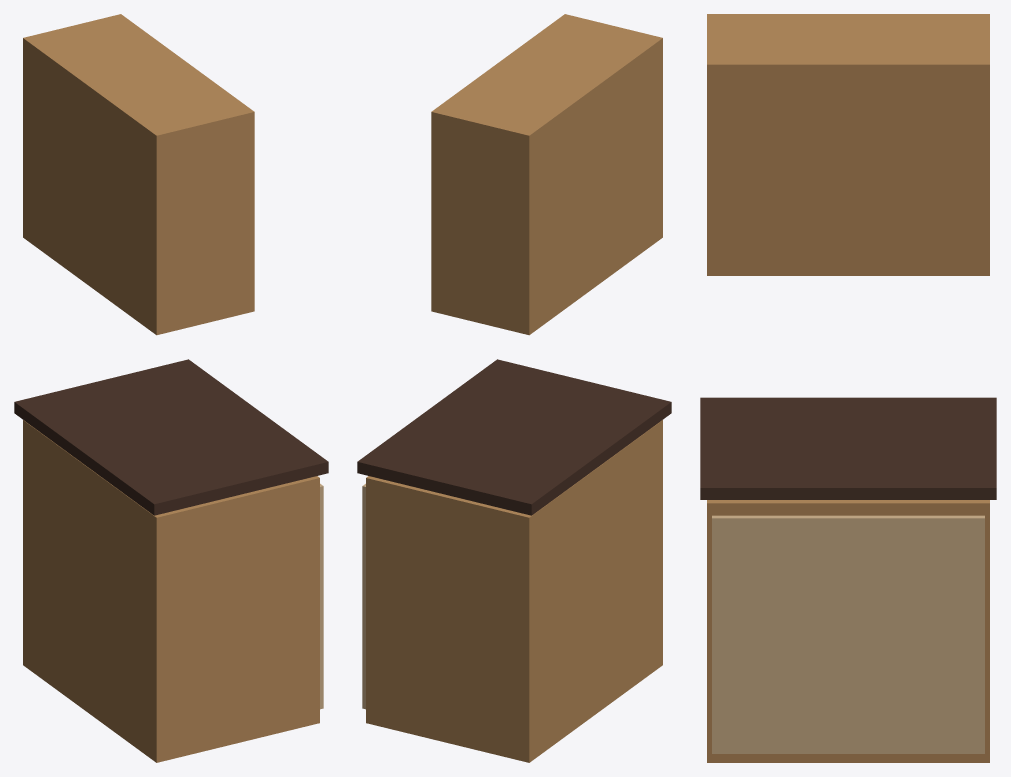
The picture shows the model from 3 angles, left to right: view 1: azimuth 30°, elevation 25°; view 2: azimuth 150°, elevation 25°; view 3: azimuth 270°, elevation 25°; orthographic projection. The views are drawn at different scales.
Parts seen in each view (by area): view 1: mueble_cocina_este; view 2: mueble_cocina_este; view 3: mueble_cocina_este.
Part boxes in pixels (x1,y1,x2,y2): mueble_cocina_este: (14,14,328,762); mueble_cocina_este: (357,14,671,762); mueble_cocina_este: (700,14,996,762).
Bounding box in the file's own units: 0.642 × 0.89 × 2.2.
